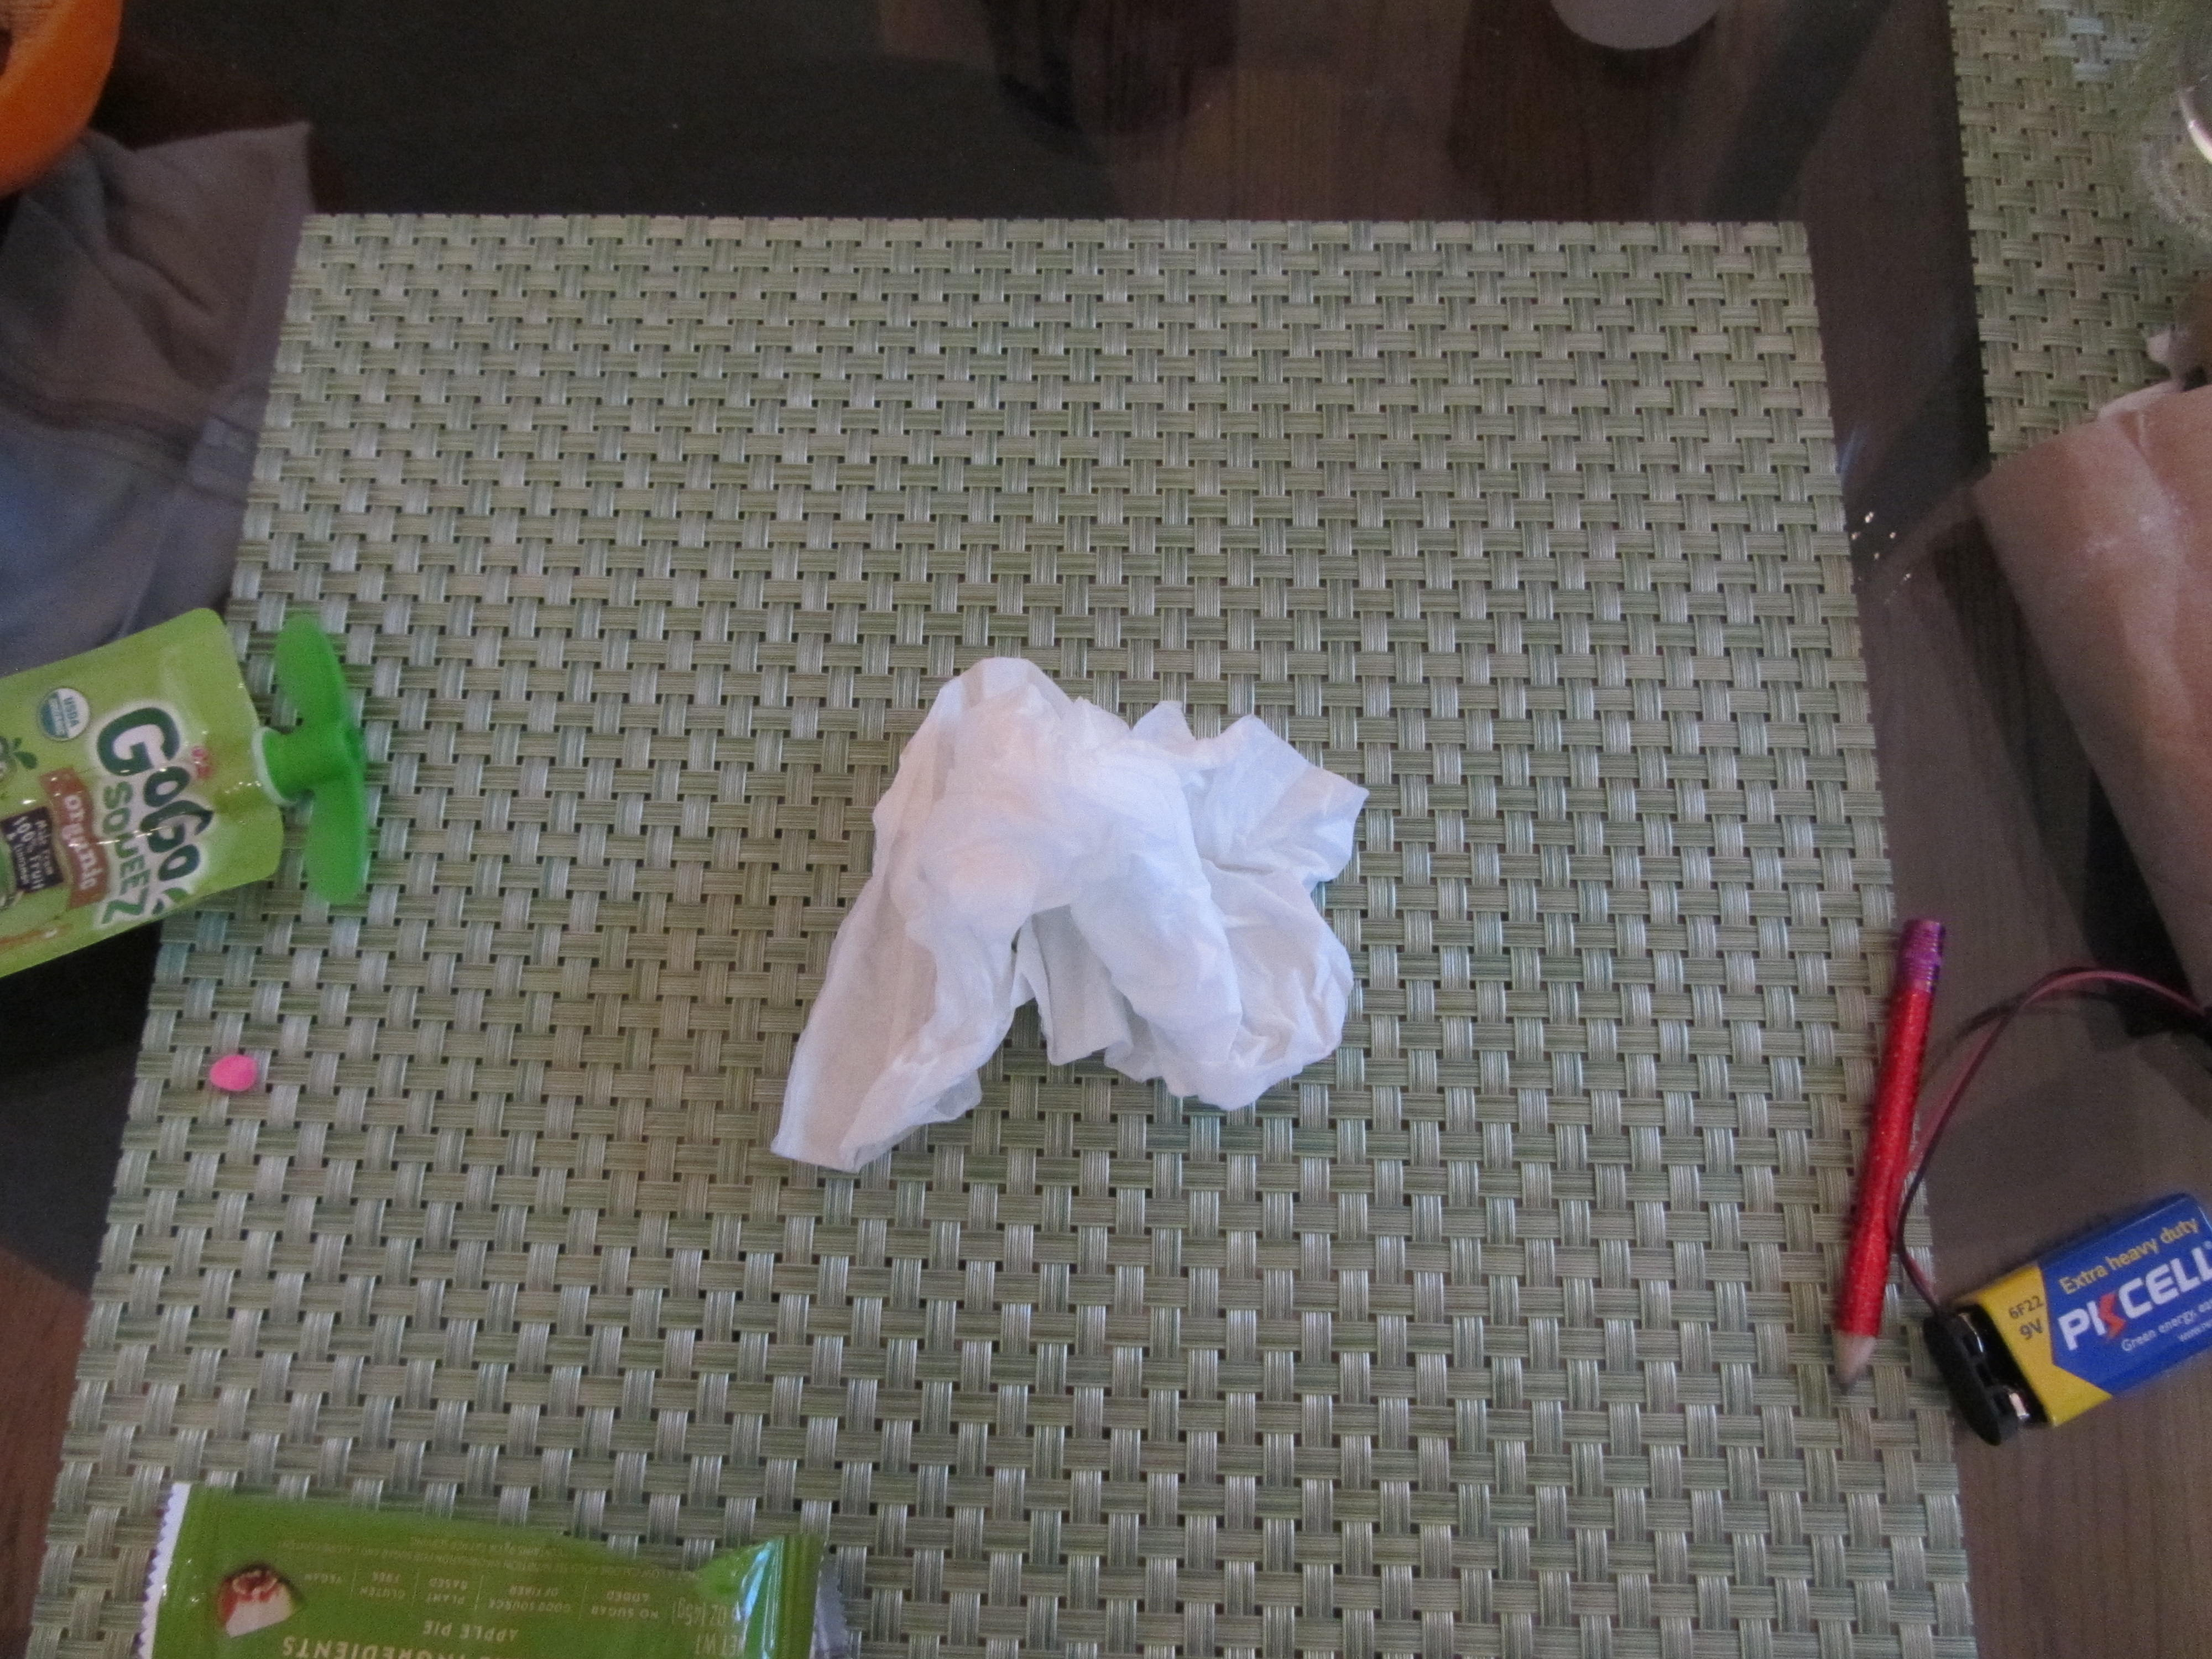tissue: (768, 643, 1374, 1173)
